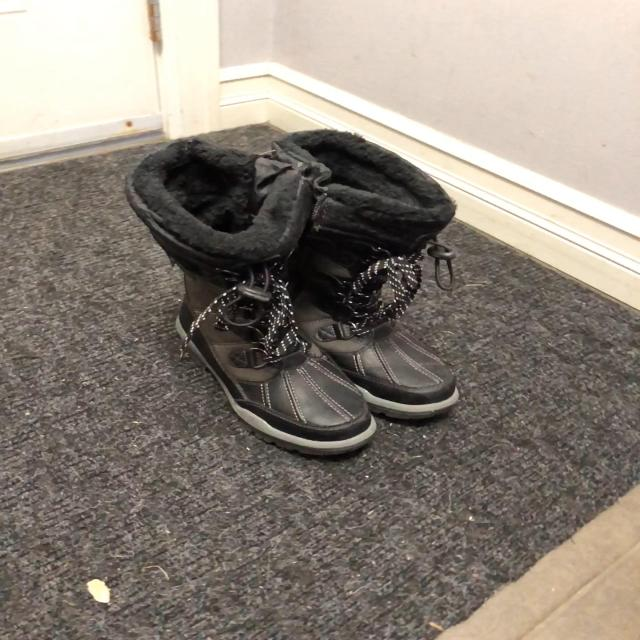shoe: (177, 282, 378, 463), (313, 323, 460, 427)
